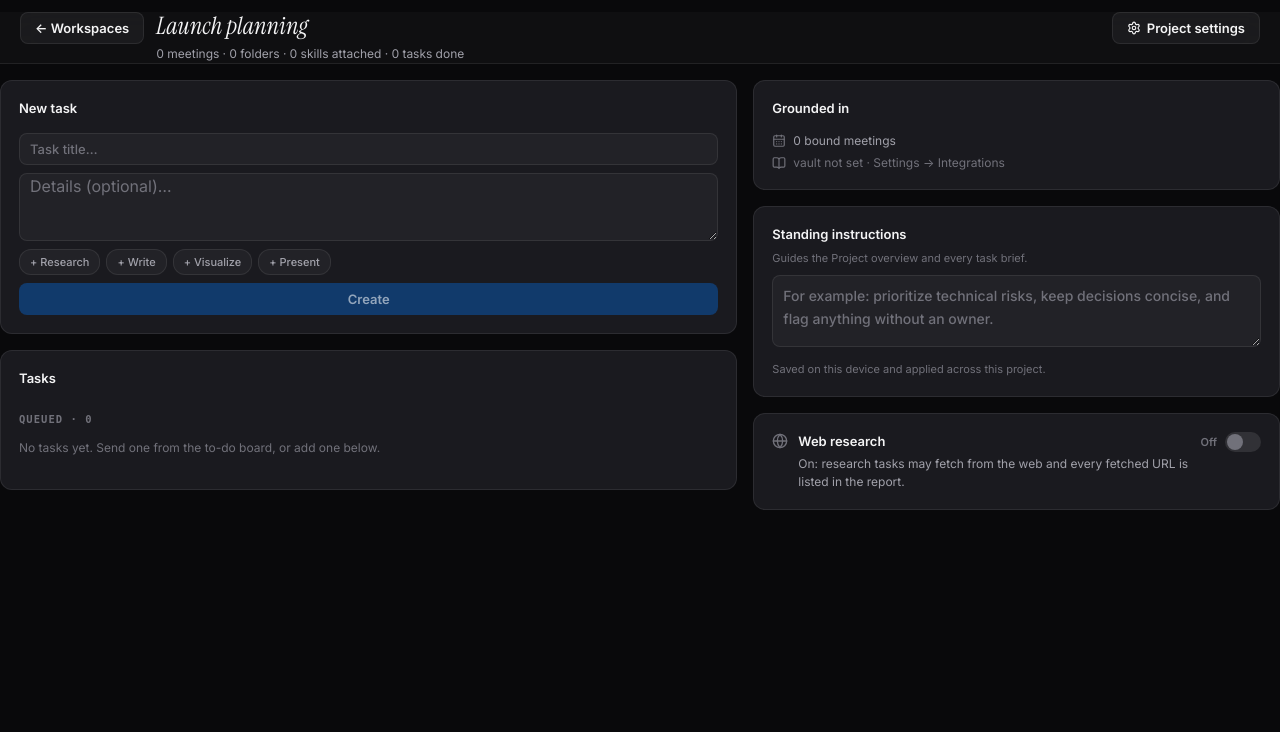
Test case: WorkspaceDetailView task capabilities › marks a confident visualize match as suggested
In the field labelled "Task title": (369, 148) [19, 132, 718, 164], type "Diagram the auth flow"
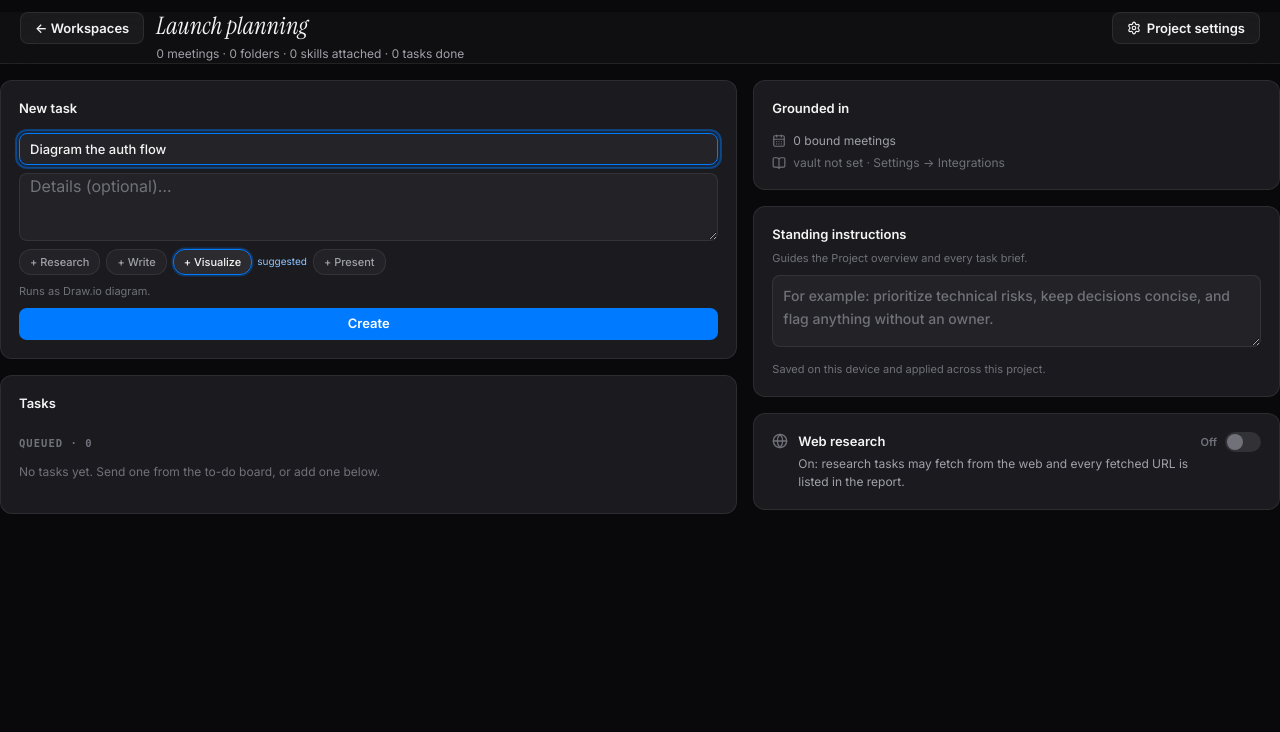
Check: the text "suggested" is shown, box [257, 254, 307, 269]
